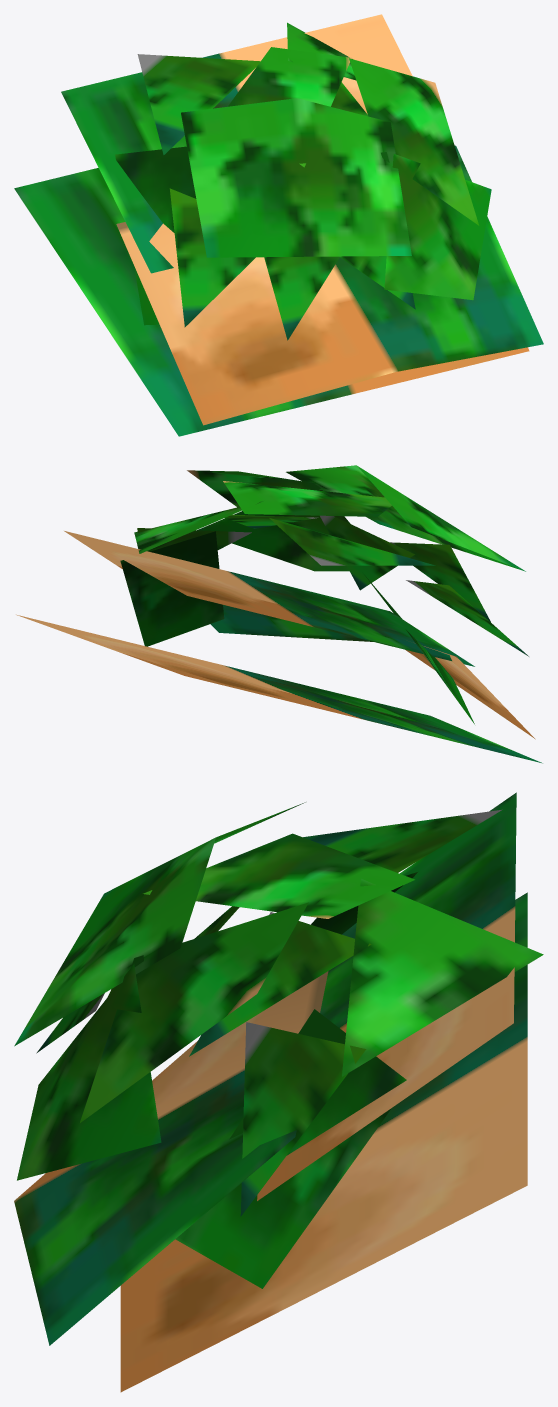
The model's file is fg_bushD_2_ye.dae.
3 renders of one model, top to bottom at view 1: azimuth 30°, elevation 25°; view 2: azimuth 150°, elevation 25°; view 3: azimuth 270°, elevation 25°, orthographic. The views are drawn at different scales.
Visible parts, largest first — view 1: fg_bushD_2_ye; view 2: fg_bushD_2_ye; view 3: fg_bushD_2_ye.
Part boxes in pixels (x1,y1,x2,y2): fg_bushD_2_ye: [14, 14, 543, 436]; fg_bushD_2_ye: [16, 465, 542, 763]; fg_bushD_2_ye: [14, 792, 543, 1392].
Size of the model in its own units: 47.83 by 31.26 by 36.53.
1 material, 1 textured.
